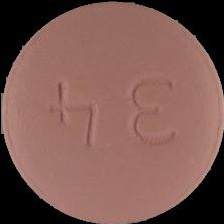53808-0616: (0, 0, 224, 224)
